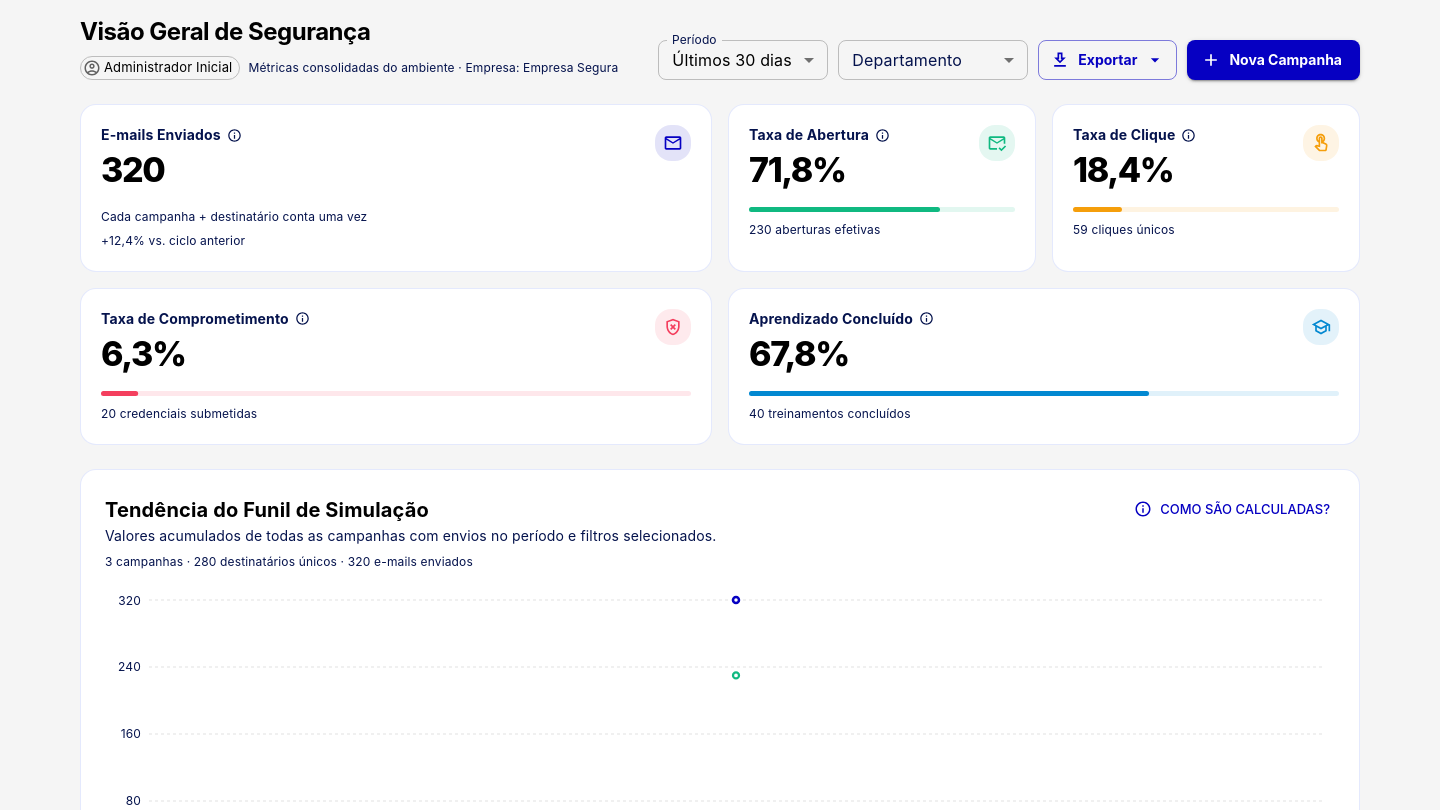
it: AdminDashboard — visão executiva essencial › explica as fórmulas em tooltips e em um glossário acessível
expect the text "Empresa Segura" is shown: met, box [523,60,618,75]
expect the button named "Como E-mails Enviados é calculado" is shown: met, box [225,126,244,144]
Step 1. Click the button "Como são calculadas?" → (1233, 509), box [1131,494,1335,524]
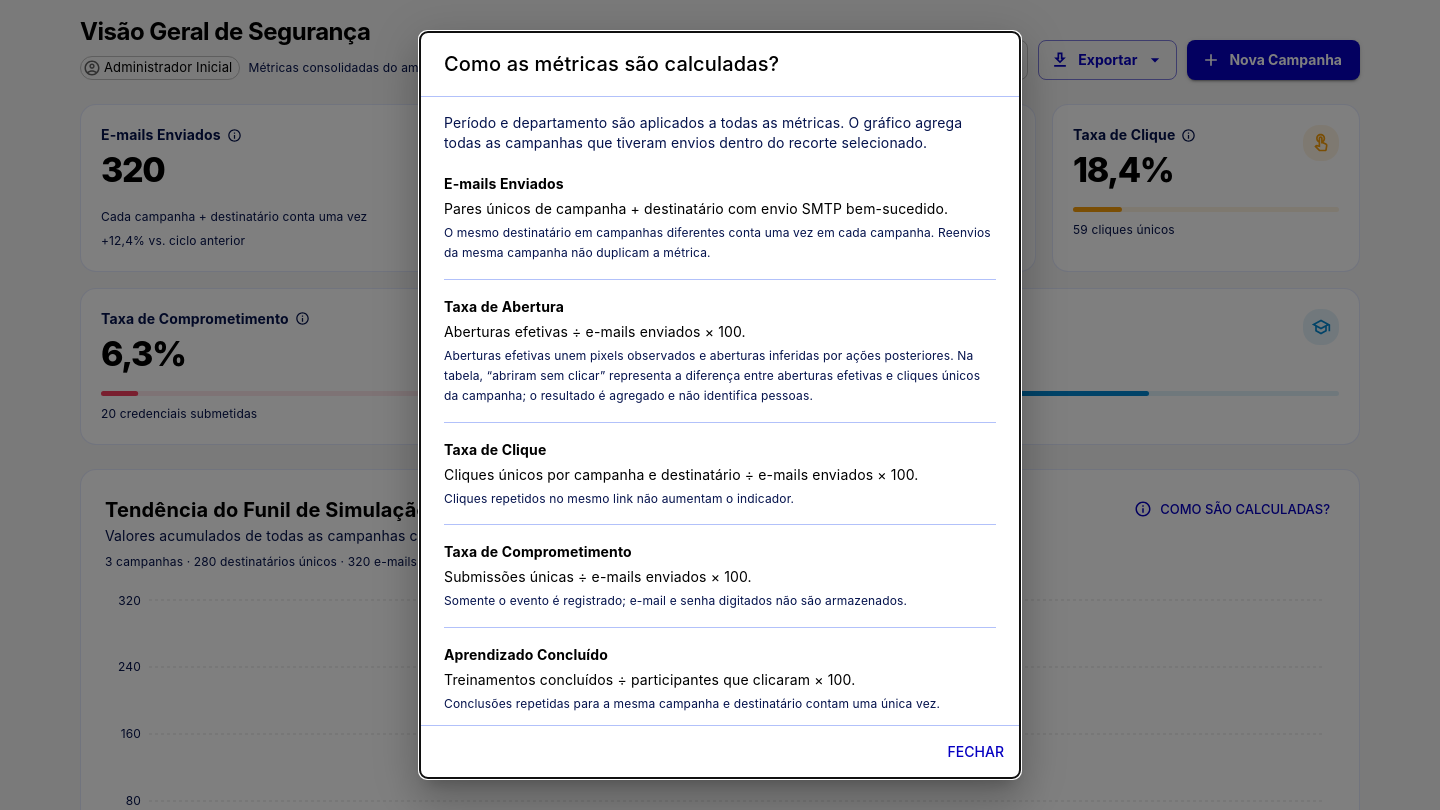
expect the dialog is shown: met, box [420,32,1020,778]
expect the heading "Como as métricas são calculadas?" is shown: met, box [444,52,779,76]
expect the text "O gráfico agrega todas as campanhas" is shown: met, box [444,114,962,151]
Step 2. Click the button "Fechar" → (976, 752), box [940,734,1012,770]
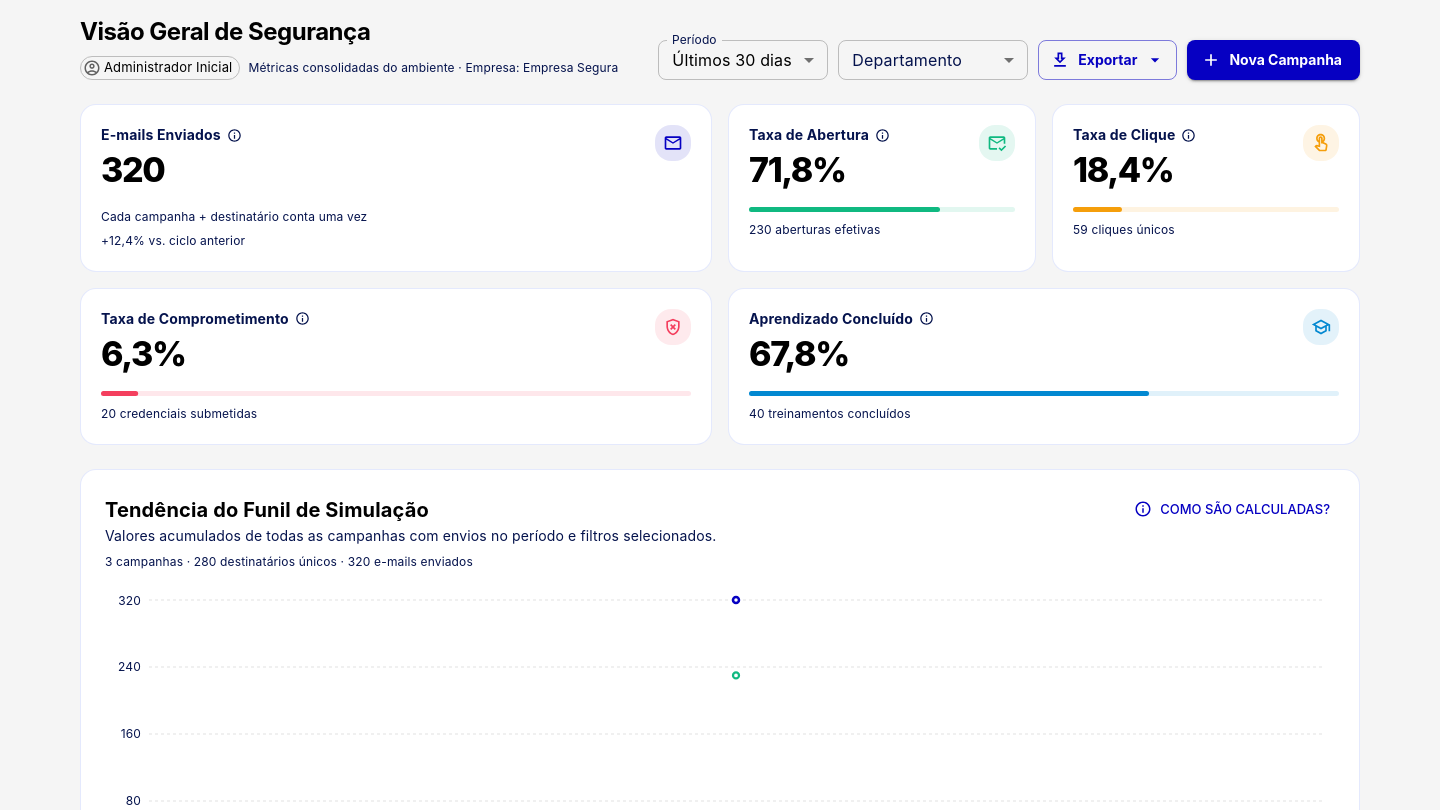
expect the dialog is gone: met
